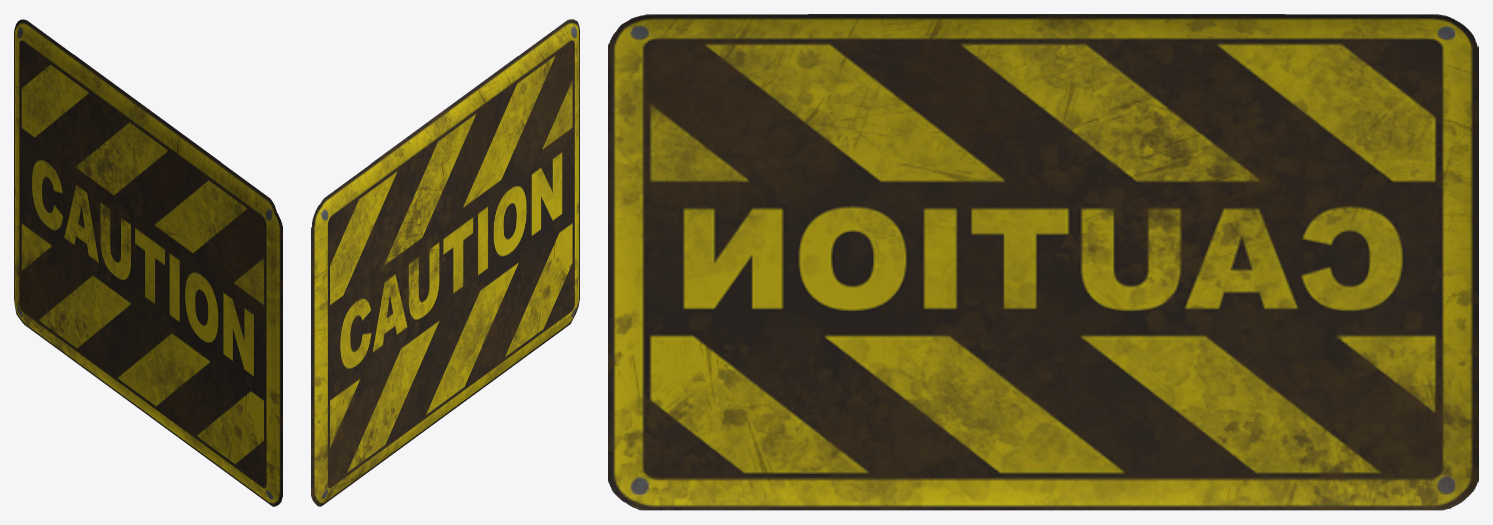
File: sign_01.fbx
The picture shows the model from 3 angles, left to right: view 1: azimuth 30°, elevation 25°; view 2: azimuth 150°, elevation 25°; view 3: azimuth 270°, elevation 25°; orthographic projection. The views are drawn at different scales.
Parts seen in each view (by area): view 1: Sign_01; view 2: Sign_01; view 3: Sign_01.
Boxes of the visible parts, bbox=[...] form: Sign_01: bbox=[14, 19, 282, 506]; Sign_01: bbox=[311, 19, 579, 506]; Sign_01: bbox=[608, 14, 1478, 510].
Size of the model in its own units: 0.000125 by 0.00644 by 0.0102.
1 material, 1 textured.
